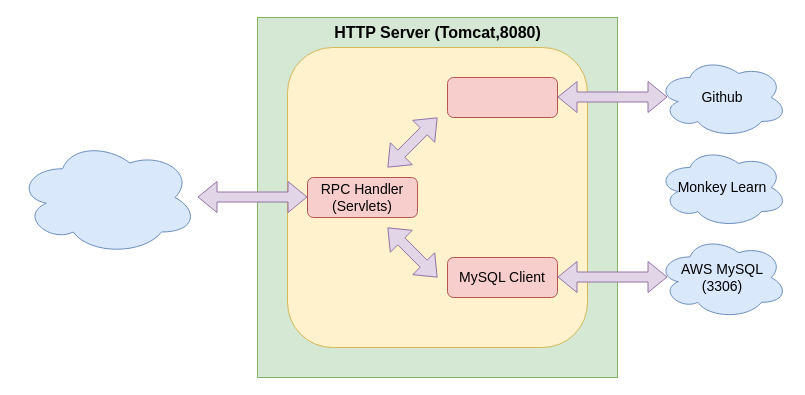
The diagram is 805 pixels wide and 395 high, and some of its shapes have lost their labels. Here are the shapes that lost their labels. From the top down, the box of each, then its label:
(446, 76, 558, 118): Github Job API Client
(16, 139, 198, 255): Front End (HTML, CSS,JS)
